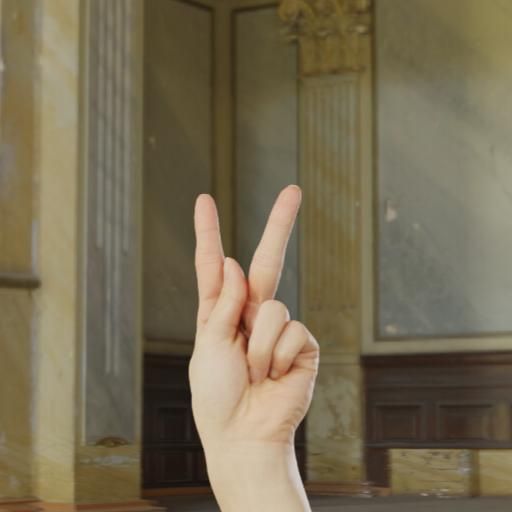K: (166, 170, 338, 507)
